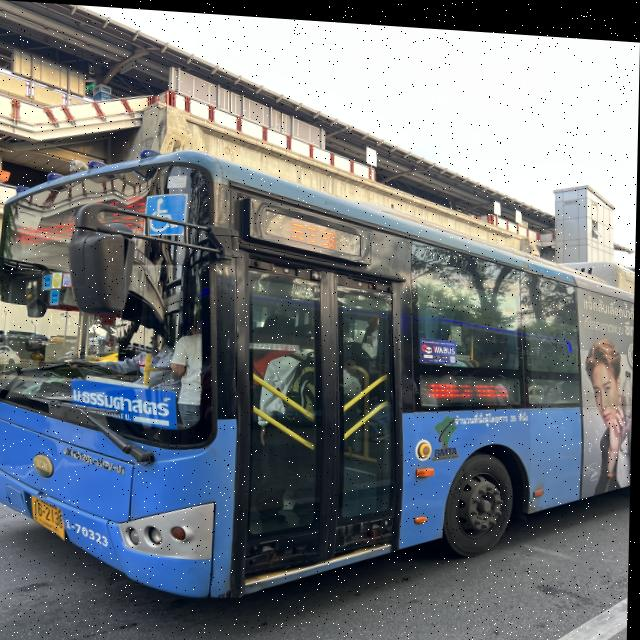BMTA-bus: (0, 148, 635, 599)
Bus Side Number: (62, 512, 115, 550)
Destination Sign: (70, 378, 183, 430)
